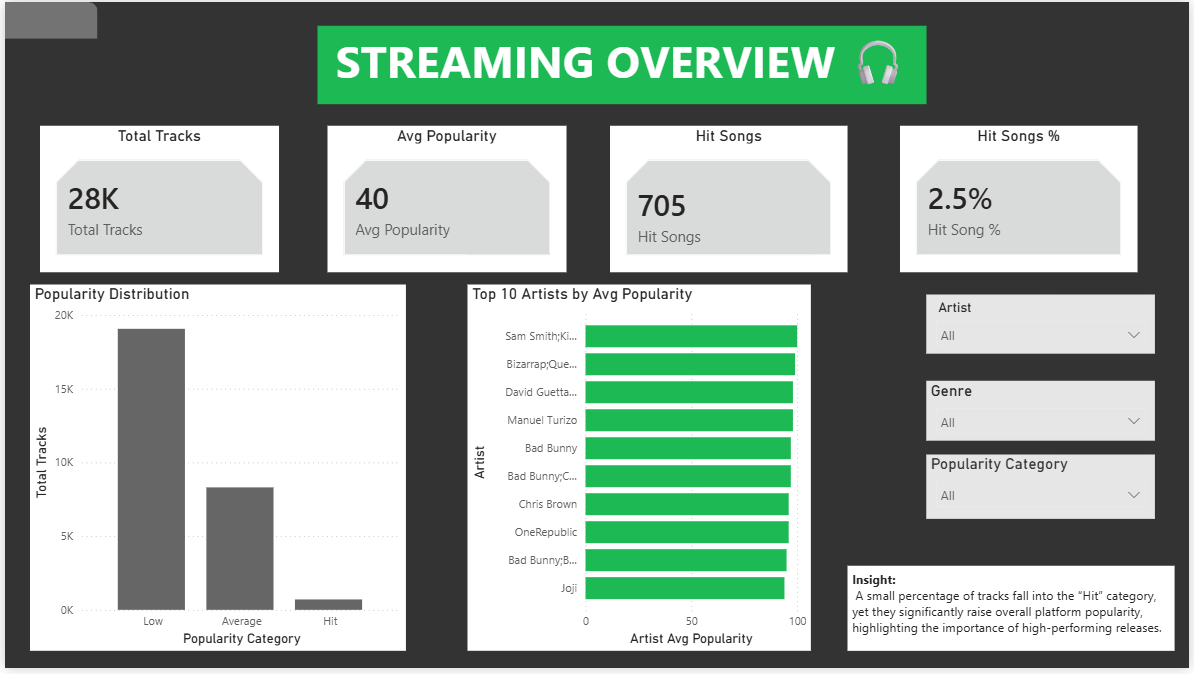

The page's visual inventory and layout, read from the dashboard file:
{"tool":"powerbi","page":{"name":"Streaming Overview","canvas":[1280,720],"ordinal":0},"visuals":[{"type":"cardVisual","title":"Total Tracks","fields":{"Data":["Spotify_Tracks.Total Tracks"]},"box":[37.4,133.9,258.2,158],"z":0},{"type":"cardVisual","title":"Avg Popularity","fields":{"Data":["Spotify_Tracks.Avg Popularity"]},"box":[348.7,133.9,258.2,158],"z":1000},{"type":"cardVisual","title":"Hit Songs","fields":{"Data":["Spotify_Tracks.Hit Songs"]},"box":[653.9,133.9,257,158],"z":2000},{"type":"cardVisual","title":"Hit Songs %","fields":{"Data":["Spotify_Tracks.Hit Song %"]},"box":[967.6,133.9,257,158],"z":3000},{"type":"clusteredColumnChart","title":"Popularity Distribution","fields":{"Y":["Spotify_Tracks.Total Tracks"],"Category":["Spotify_Tracks.Popularity Category"]},"box":[26.5,305.2,406.6,395.7],"z":4000},{"type":"clusteredBarChart","title":"Top 10 Artists by Avg Popularity","fields":{"Category":["Spotify_Tracks.Artist"],"Y":["Spotify_Tracks.Artist Avg Popularity"]},"box":[499.5,305.2,371.6,395.7],"z":5000},{"type":"slicer","title":"Genre","fields":{"Values":["Spotify_Tracks.track_genre.1","Spotify_Tracks.track_genre.2"]},"box":[996.5,409,247.3,65.1],"z":6000},{"type":"slicer","fields":{"Values":["Spotify_Tracks.Artist"]},"box":[996.5,316.1,247.3,63.9],"z":7000},{"type":"slicer","title":"Popularity Category","fields":{"Values":["Spotify_Tracks.Popularity Category"]},"box":[996.5,488.6,247.3,70],"z":8000},{"type":"textbox","box":[910.9,609.3,353.5,91.7],"z":9000},{"type":"textbox","box":[337.8,25.3,658.7,84.5],"z":10000},{"type":"actionButton","title":"overview","box":[0,0,100.2,39.8],"z":11000}]}

Visuals, with their boxes in screenshot pixels (x1, y1, x2, y2), scaled from the page's 1280x720 canvas onto the 1194x674 screenshot:
"Total Tracks" cardVisual: (x1=35, y1=125, x2=276, y2=273)
"Avg Popularity" cardVisual: (x1=325, y1=125, x2=566, y2=273)
"Hit Songs" cardVisual: (x1=610, y1=125, x2=850, y2=273)
"Hit Songs %" cardVisual: (x1=903, y1=125, x2=1142, y2=273)
"Popularity Distribution" clusteredColumnChart: (x1=25, y1=286, x2=404, y2=656)
"Top 10 Artists by Avg Popularity" clusteredBarChart: (x1=466, y1=286, x2=813, y2=656)
"Genre" slicer: (x1=930, y1=383, x2=1160, y2=444)
slicer - Spotify_Tracks.Artist: (x1=930, y1=296, x2=1160, y2=356)
"Popularity Category" slicer: (x1=930, y1=457, x2=1160, y2=523)
textbox: (x1=850, y1=570, x2=1179, y2=656)
textbox: (x1=315, y1=24, x2=930, y2=103)
"overview" actionButton: (x1=0, y1=0, x2=93, y2=37)
